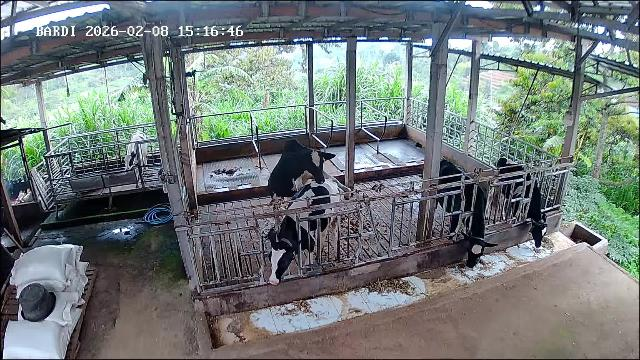mounting: (265, 140, 353, 222)
